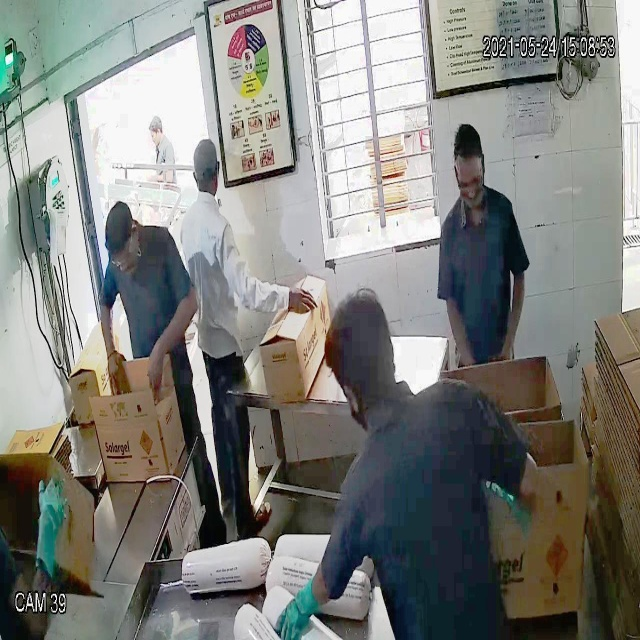Gafas: (450, 170, 488, 199)
